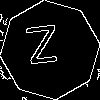Z: (25, 25, 61, 74)
